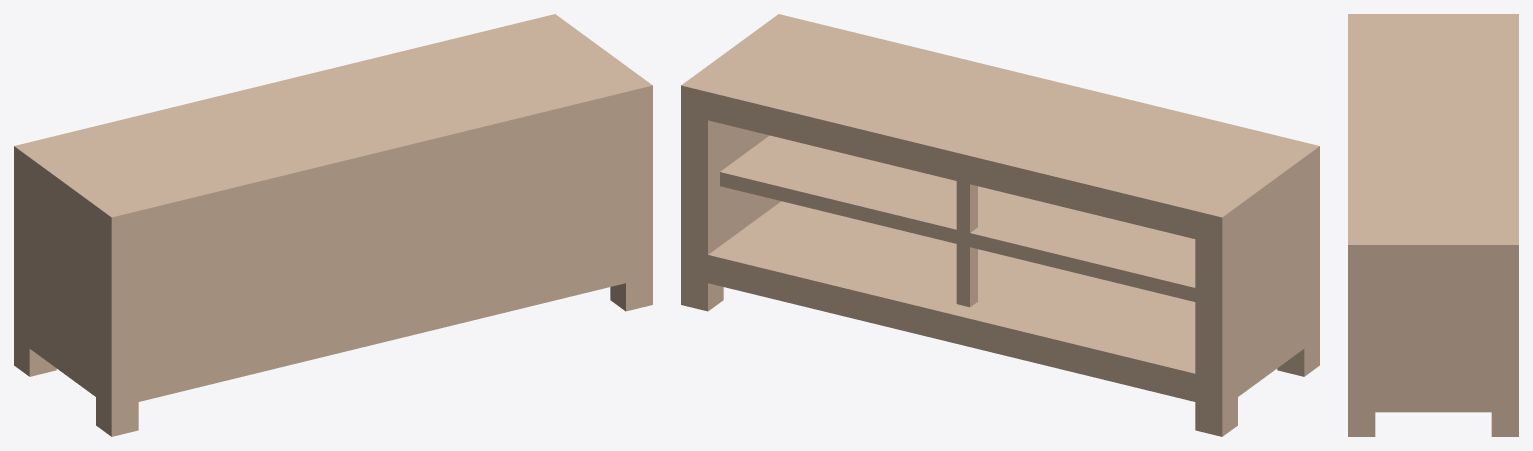
Rendered from tv_cabinet.glb.
3 views of the same model, side by side, from view 1: azimuth 30°, elevation 25°; view 2: azimuth 150°, elevation 25°; view 3: azimuth 270°, elevation 25° (orthographic). The views are drawn at different scales.
Parts seen in each view (by area): view 1: cabinetTelevision(Clone); view 2: cabinetTelevision(Clone); view 3: cabinetTelevision(Clone).
Boxes of the visible parts, left/top/right/bottom form: cabinetTelevision(Clone): left=14, top=14, right=652, bottom=436; cabinetTelevision(Clone): left=681, top=14, right=1319, bottom=436; cabinetTelevision(Clone): left=1348, top=14, right=1518, bottom=436.
Bounding box in the file's own units: 1.68 × 0.651 × 0.525.
